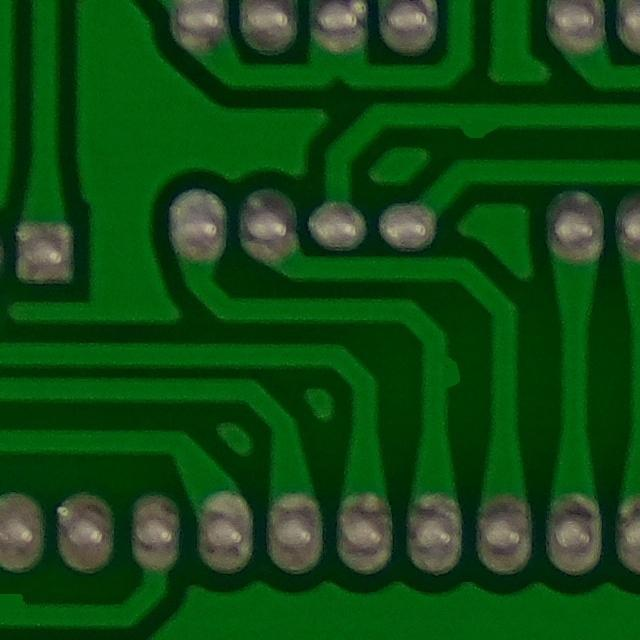spur: (438, 96, 519, 146), (414, 344, 475, 401)
